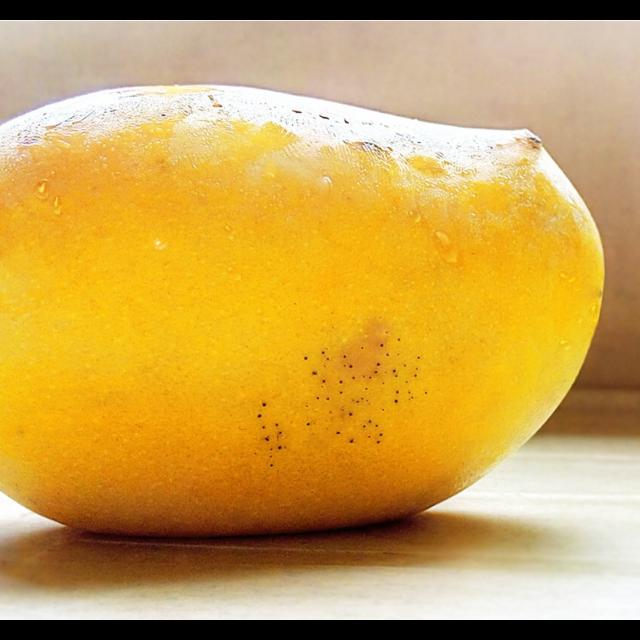mango: (0, 82, 608, 537)
